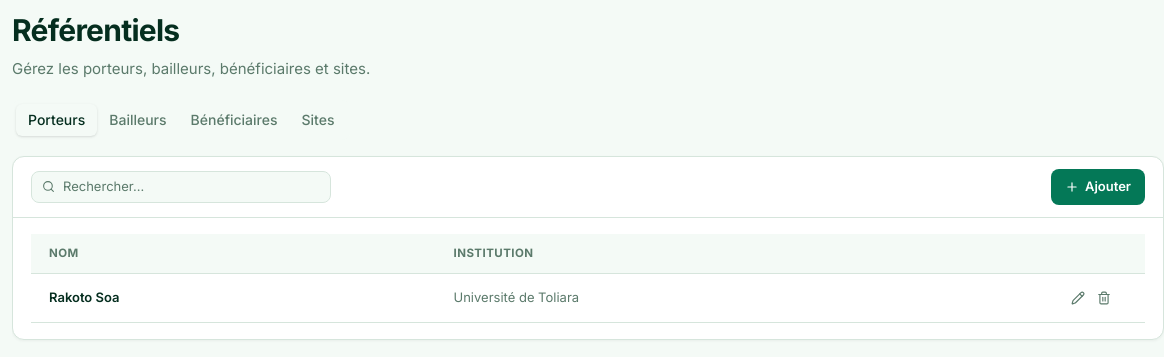
Test: page des référentiels › affiche les tableaux renvoyés directement par les quatre endpoints
Press the mouse on the tab "Bailleurs" at (138, 120), box x1=97 y1=104 x2=178 y2=136
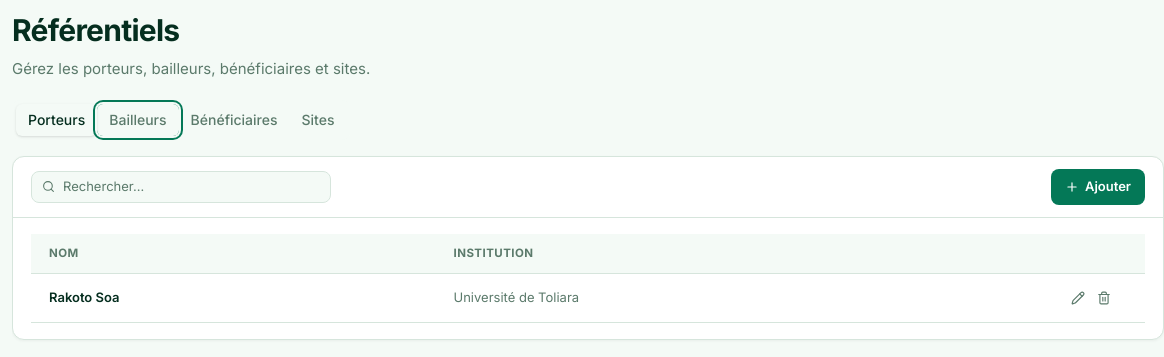
Click the tab "Bailleurs" at (138, 120), box x1=97 y1=104 x2=178 y2=136
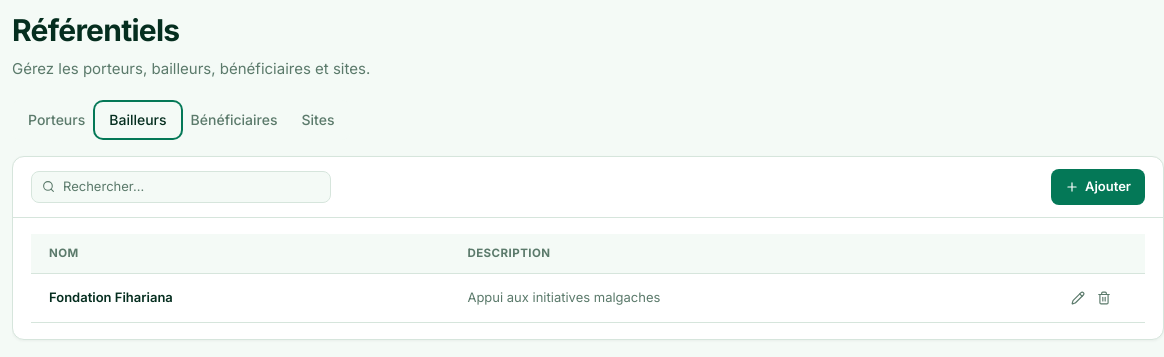
Now the text "Fondation Fihariana" is shown, box x1=31 y1=273 x2=449 y2=322
Press the mouse on the tab "Bénéficiaires" at (234, 120), box x1=179 y1=104 x2=290 y2=136
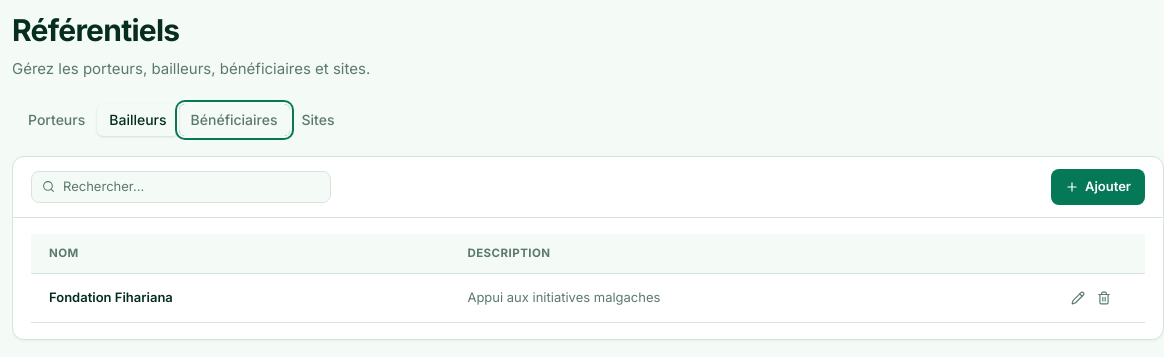
Click the tab "Bénéficiaires" at (234, 120), box x1=179 y1=104 x2=290 y2=136
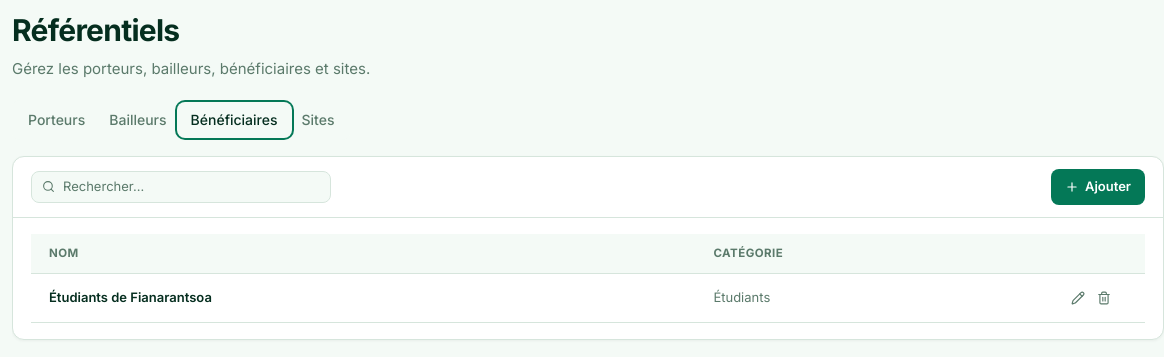
Now the text "Étudiants de Fianarantsoa" is shown, box x1=31 y1=273 x2=695 y2=322
Press the mouse on the tab "Sites" at (318, 120), box x1=290 y1=104 x2=346 y2=136
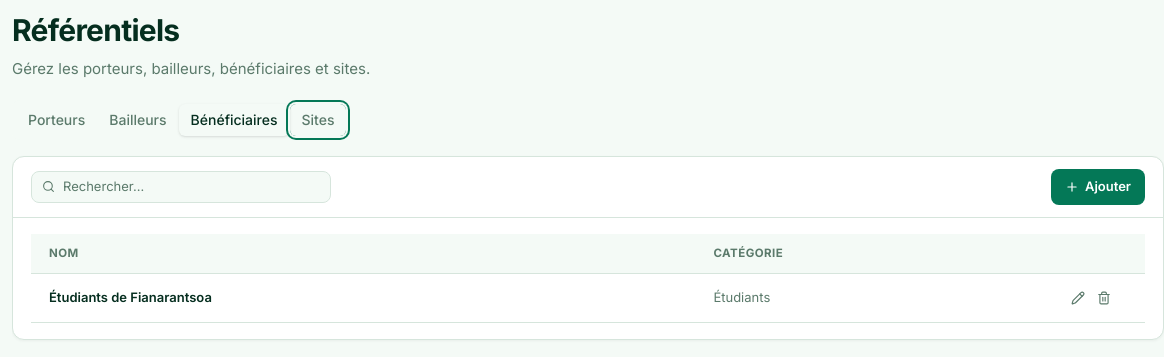
Click the tab "Sites" at (318, 120), box x1=290 y1=104 x2=346 y2=136
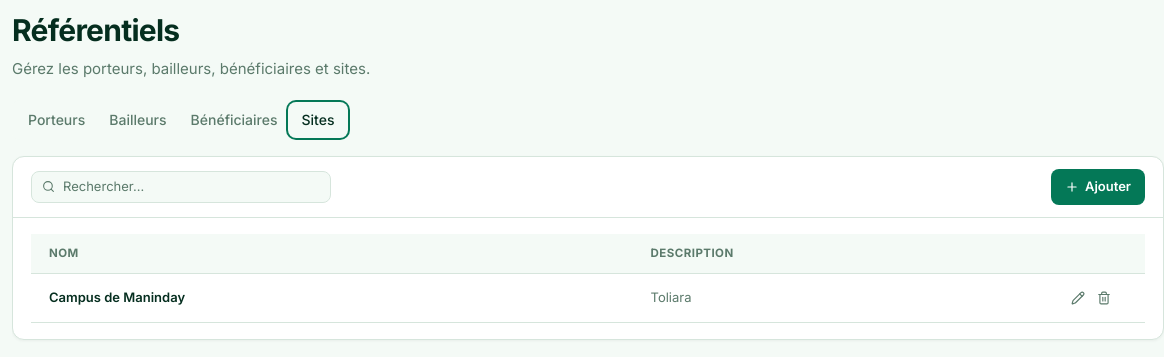
Now the text "Campus de Maninday" is shown, box x1=31 y1=273 x2=632 y2=322
